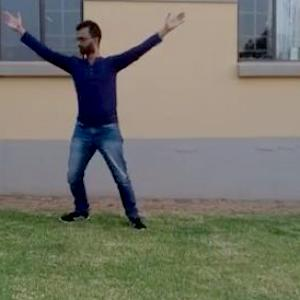takeoff: (1, 9, 179, 220)
